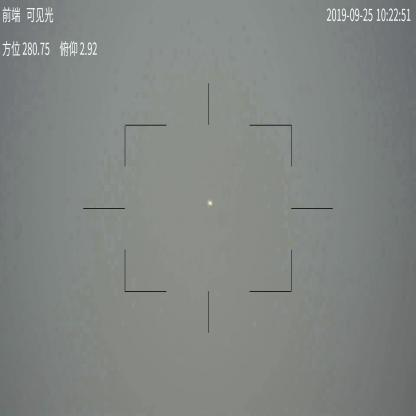uav: (206, 196, 214, 208)
